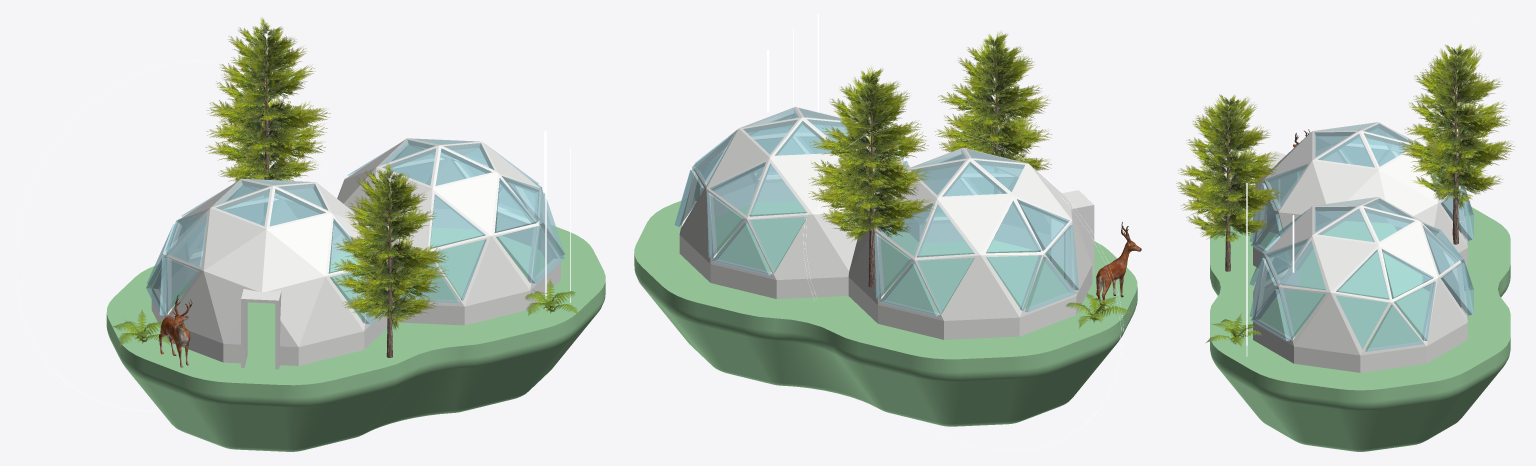
3 renders of one model, left to right at view 1: azimuth 30°, elevation 25°; view 2: azimuth 150°, elevation 25°; view 3: azimuth 270°, elevation 25°, orthographic. The views are drawn at different scales.
Visible parts, largest first — view 1: Body1.041_283, Dome 1_157, Body1.038_203, Body1.040_209, Body1.031_176, Body1.033_167, Body1.012_269, Body1.005_212, Body1.013_230, Body1_227, Stylized Deer_149, Body1.004_266 (+23 smaller); view 2: Body1.041_283, Dome 1_157, Body1.025_191, Body1.016_245, Body1.010_278, Body1.027_197, Body1.017_239, Body1.029_161, Body1.018_242, Body1.014_275, Body1.011_272, Body1.015_233 (+35 smaller); view 3: Body1.041_283, Dome 1_157, Body1.021_179, Body1.023_185, Body1.022_182, Body1.030_173, Body1.020_158, Body1.024_188, Body1.032_170, Body1.034_164, Body1.001_257, Body1.009_224 (+48 smaller).
Boxes of the visible parts, <box> form: Body1.041_283: <box>106,210,605,451</box>; Dome 1_157: <box>151,138,560,369</box>; Body1.038_203: <box>435,239,486,300</box>; Body1.040_209: <box>430,194,485,248</box>; Body1.031_176: <box>496,226,539,283</box>; Body1.033_167: <box>494,178,538,232</box>; Body1.012_269: <box>162,257,199,314</box>; Body1.005_212: <box>435,148,491,185</box>; Body1.013_230: <box>166,213,207,267</box>; Body1_227: <box>269,189,325,226</box>; Stylized Deer_149: <box>158,295,192,367</box>; Body1.004_266: <box>216,189,269,226</box>; Body1.041_283: <box>634,197,1137,426</box>; Dome 1_157: <box>679,107,1094,339</box>; Body1.025_191: <box>749,217,807,273</box>; Body1.016_245: <box>917,257,974,314</box>; Body1.010_278: <box>986,255,1041,310</box>; Body1.027_197: <box>749,163,806,216</box>; Body1.017_239: <box>916,204,974,257</box>; Body1.029_161: <box>712,221,771,275</box>; Body1.018_242: <box>879,262,938,316</box>; Body1.014_275: <box>986,201,1041,253</box>; Body1.011_272: <box>1024,256,1076,312</box>; Body1.015_233: <box>874,233,912,299</box>; Body1.041_283: <box>1210,207,1510,451</box>; Dome 1_157: <box>1253,122,1467,372</box>; Body1.021_179: <box>1335,295,1388,349</box>; Body1.023_185: <box>1365,304,1423,351</box>; Body1.022_182: <box>1336,249,1389,299</box>; Body1.030_173: <box>1279,288,1325,339</box>; Body1.020_158: <box>1394,281,1435,340</box>; Body1.024_188: <box>1382,249,1433,298</box>; Body1.032_170: <box>1280,240,1326,290</box>; Body1.034_164: <box>1251,289,1289,340</box>; Body1.001_257: <box>1318,134,1374,167</box>; Body1.009_224: <box>1318,209,1374,242</box>.
Size of the model in its own units: 16.08 by 10.74 by 10.29.
Materials: 13 (7 with a texture image).
